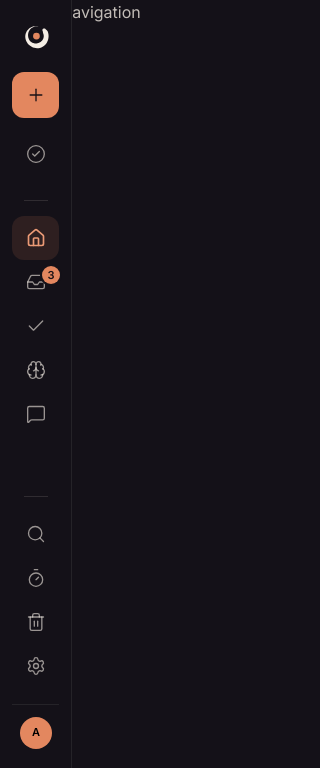
Scenario: Sidebar › keeps completed ritual label {} truthful on hover
This screenshot has width=320, height=768.
Step 1. Hover over the button "Day planned" → (36, 154), box top-left (12, 132), bottom-right (59, 176)
Wait 500 ms
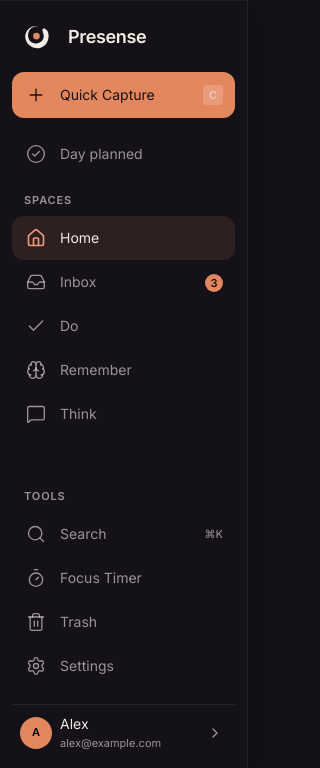
Expected: the text "Day planned" is shown, top-left (60, 143), bottom-right (143, 165)
